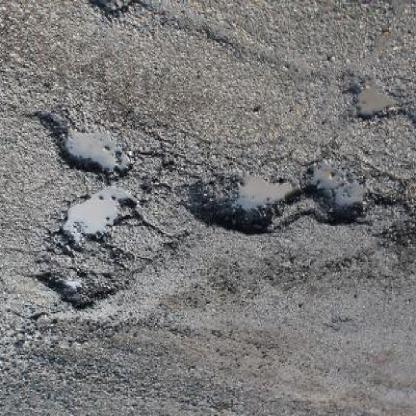pothole: (187, 166, 304, 241), (42, 111, 138, 183), (58, 191, 148, 253), (304, 155, 376, 231), (36, 266, 118, 314), (346, 77, 401, 127), (87, 2, 141, 22)
